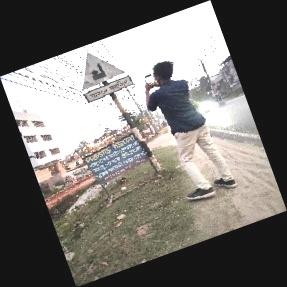Mosque in front: (80, 50, 136, 107)
